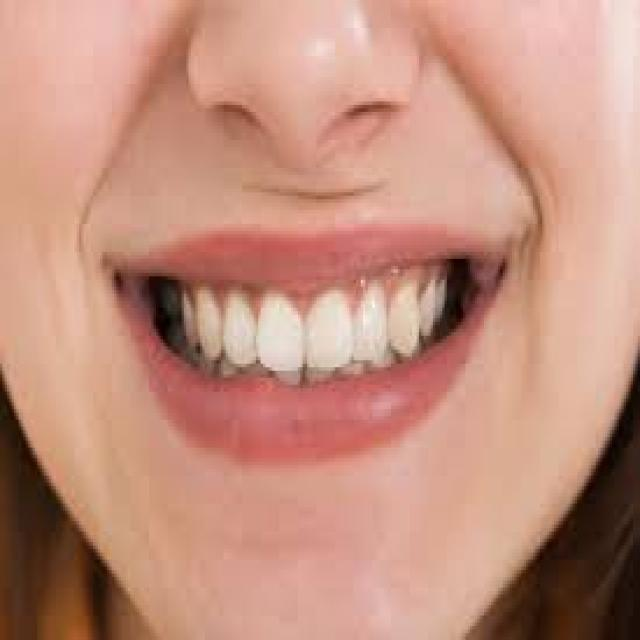tooth: (307, 297, 356, 367), (263, 304, 303, 371), (226, 308, 260, 367), (361, 297, 391, 360), (393, 297, 424, 353), (200, 304, 224, 353), (163, 287, 179, 332), (423, 294, 440, 332), (184, 297, 195, 343)
